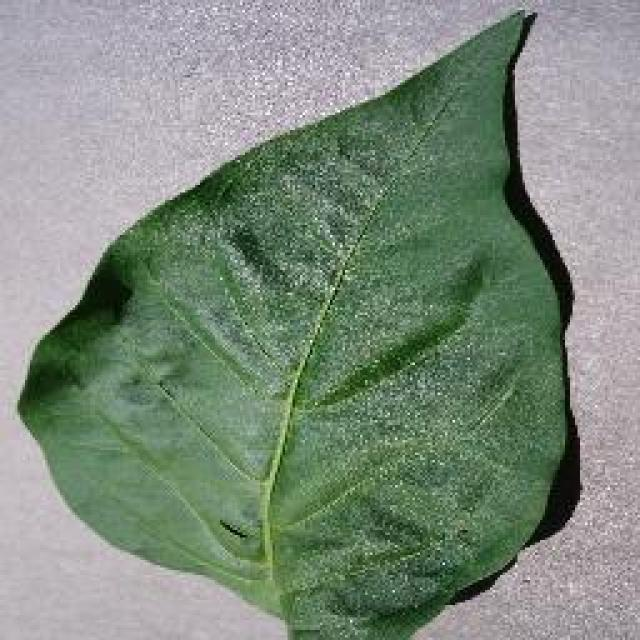Leaf: (59, 339, 193, 539)
